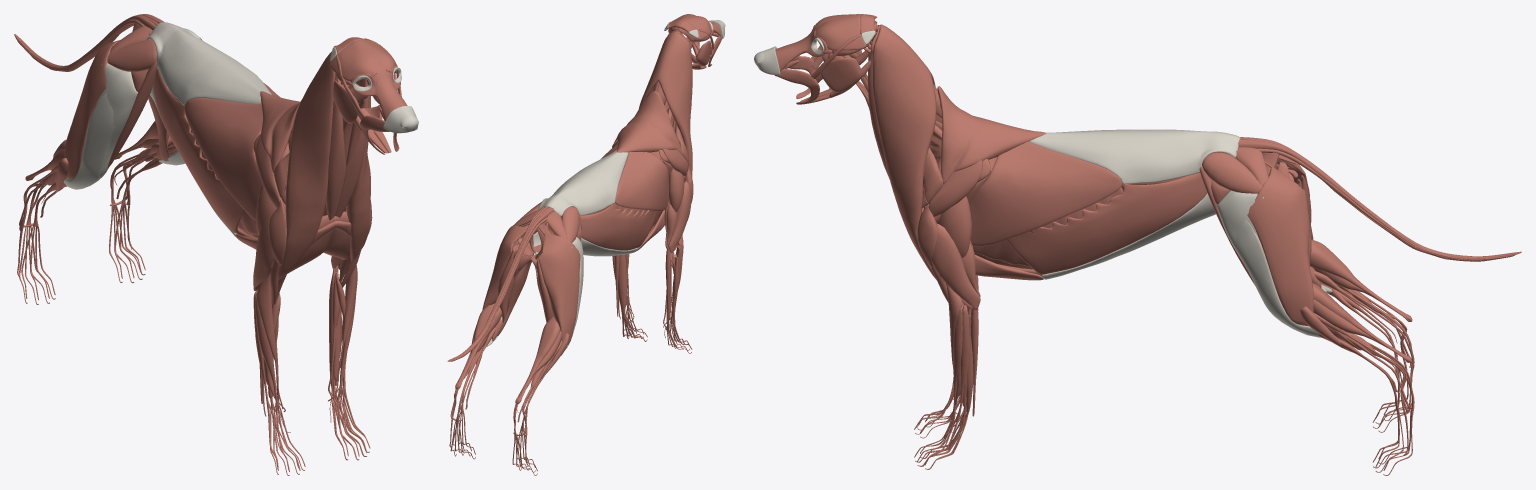
File: Hund-Muskeln.glb
The picture shows the model from 3 angles, left to right: view 1: azimuth 30°, elevation 25°; view 2: azimuth 150°, elevation 25°; view 3: azimuth 270°, elevation 25°; orthographic projection. The views are drawn at different scales.
Parts seen in each view (by area): view 1: m_brachiocephalicus, m_latissimus_dors_R, m_dorsi_Fascia_thoracolumbar_, m_obliquus_ext_abdominis_R, m_orbicularis_oculi, m_biceps_femoris_R, m_biceps_femoris_tendon_R, m_trapezius, m_vastus_lat_ander_fascia_lata_R, m_sternocephalicus_R, m_pectorales_superficiales_1, m_extensor_digitorum_communis_R (+26 smaller); view 2: m_brachiocephalicus, m_biceps_femoris_R, m_dorsi_Fascia_thoracolumbar_, m_latissimus_dors_R, m_obliquus_ext_abdominis_R, m_trapezius, m_biceps_femoris_L, m_gastrocnemius_R, m_gastrocnemius_L, m_flexor_digitorum_profundus_L(2), m_tricepsbrachii_lateral_R, m_flexor_digitorum_superficialis_L (+19 smaller); view 3: m_latissimus_dors_L, m_brachiocephalicus, m_obliquus_ext_abdominis_L, m_dorsi_Fascia_thoracolumbar_, m_biceps_femoris_L, m_trapezius, m_biceps_femoris_tendon_L, m_orbicularis_oculi, m_triceps_brachii_lateral_L, m_abdominis_Aponeurosis, m_gluteus_medius_L, m_deltoideus_scapularis_L (+13 smaller).
Boxes of the visible parts, x1,y1,x2,y2 form: m_brachiocephalicus: (278, 51, 370, 279); m_latissimus_dors_R: (184, 97, 262, 221); m_dorsi_Fascia_thoracolumbar_: (146, 22, 271, 105); m_obliquus_ext_abdominis_R: (153, 68, 244, 233); m_orbicularis_oculi: (329, 39, 407, 131); m_biceps_femoris_R: (64, 40, 119, 179); m_biceps_femoris_tendon_R: (63, 93, 115, 189); m_trapezius: (260, 91, 301, 172); m_vastus_lat_ander_fascia_lata_R: (87, 63, 137, 186); m_sternocephalicus_R: (325, 73, 345, 219); m_pectorales_superficiales_1: (279, 211, 350, 273); m_extensor_digitorum_communis_R: (255, 292, 305, 471); m_brachiocephalicus: (639, 32, 692, 176); m_biceps_femoris_R: (538, 233, 580, 344); m_dorsi_Fascia_thoracolumbar_: (538, 150, 628, 216); m_latissimus_dors_R: (615, 152, 668, 211); m_obliquus_ext_abdominis_R: (580, 203, 657, 250); m_trapezius: (616, 91, 682, 154); m_biceps_femoris_L: (482, 225, 527, 310); m_gastrocnemius_R: (517, 316, 560, 399); m_gastrocnemius_L: (457, 303, 502, 388); m_flexor_digitorum_profundus_L(2): (450, 327, 495, 459); m_tricepsbrachii_lateral_R: (668, 180, 691, 252); m_flexor_digitorum_superficialis_L: (618, 254, 646, 341); m_latissimus_dors_L: (969, 141, 1121, 246); m_brachiocephalicus: (872, 24, 936, 280); m_obliquus_ext_abdominis_L: (1006, 173, 1207, 274); m_dorsi_Fascia_thoracolumbar_: (1029, 129, 1240, 184); m_biceps_femoris_L: (1247, 167, 1313, 325); m_trapezius: (937, 86, 1046, 183); m_biceps_femoris_tendon_L: (1235, 220, 1320, 337); m_orbicularis_oculi: (774, 14, 866, 75); m_triceps_brachii_lateral_L: (931, 223, 980, 309); m_abdominis_Aponeurosis: (1041, 193, 1215, 279); m_gluteus_medius_L: (1202, 152, 1262, 193); m_deltoideus_scapularis_L: (928, 160, 982, 216).
Bounding box in the file's own units: 0.2244 × 0.741 × 1.19.
